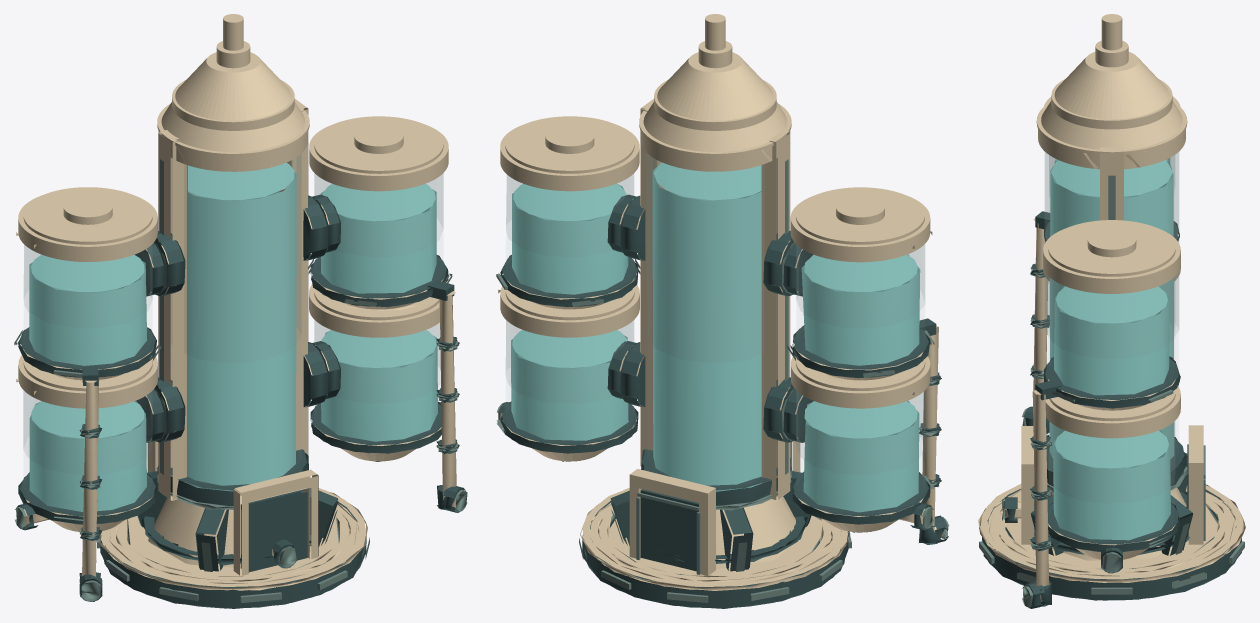
Rendered from Vat_T4.glb.
3 views of the same model, side by side, from view 1: azimuth 30°, elevation 25°; view 2: azimuth 150°, elevation 25°; view 3: azimuth 270°, elevation 25° (orthographic).
Parts seen in each view (by area): view 1: Vat_T4; view 2: Vat_T4; view 3: Vat_T4.
Part boxes in pixels (bbox=[...]): Vat_T4: bbox=[14, 14, 467, 608]; Vat_T4: bbox=[496, 14, 949, 608]; Vat_T4: bbox=[978, 14, 1245, 608].
Size of the model in its own units: 7.65 by 9.21 by 4.2.
